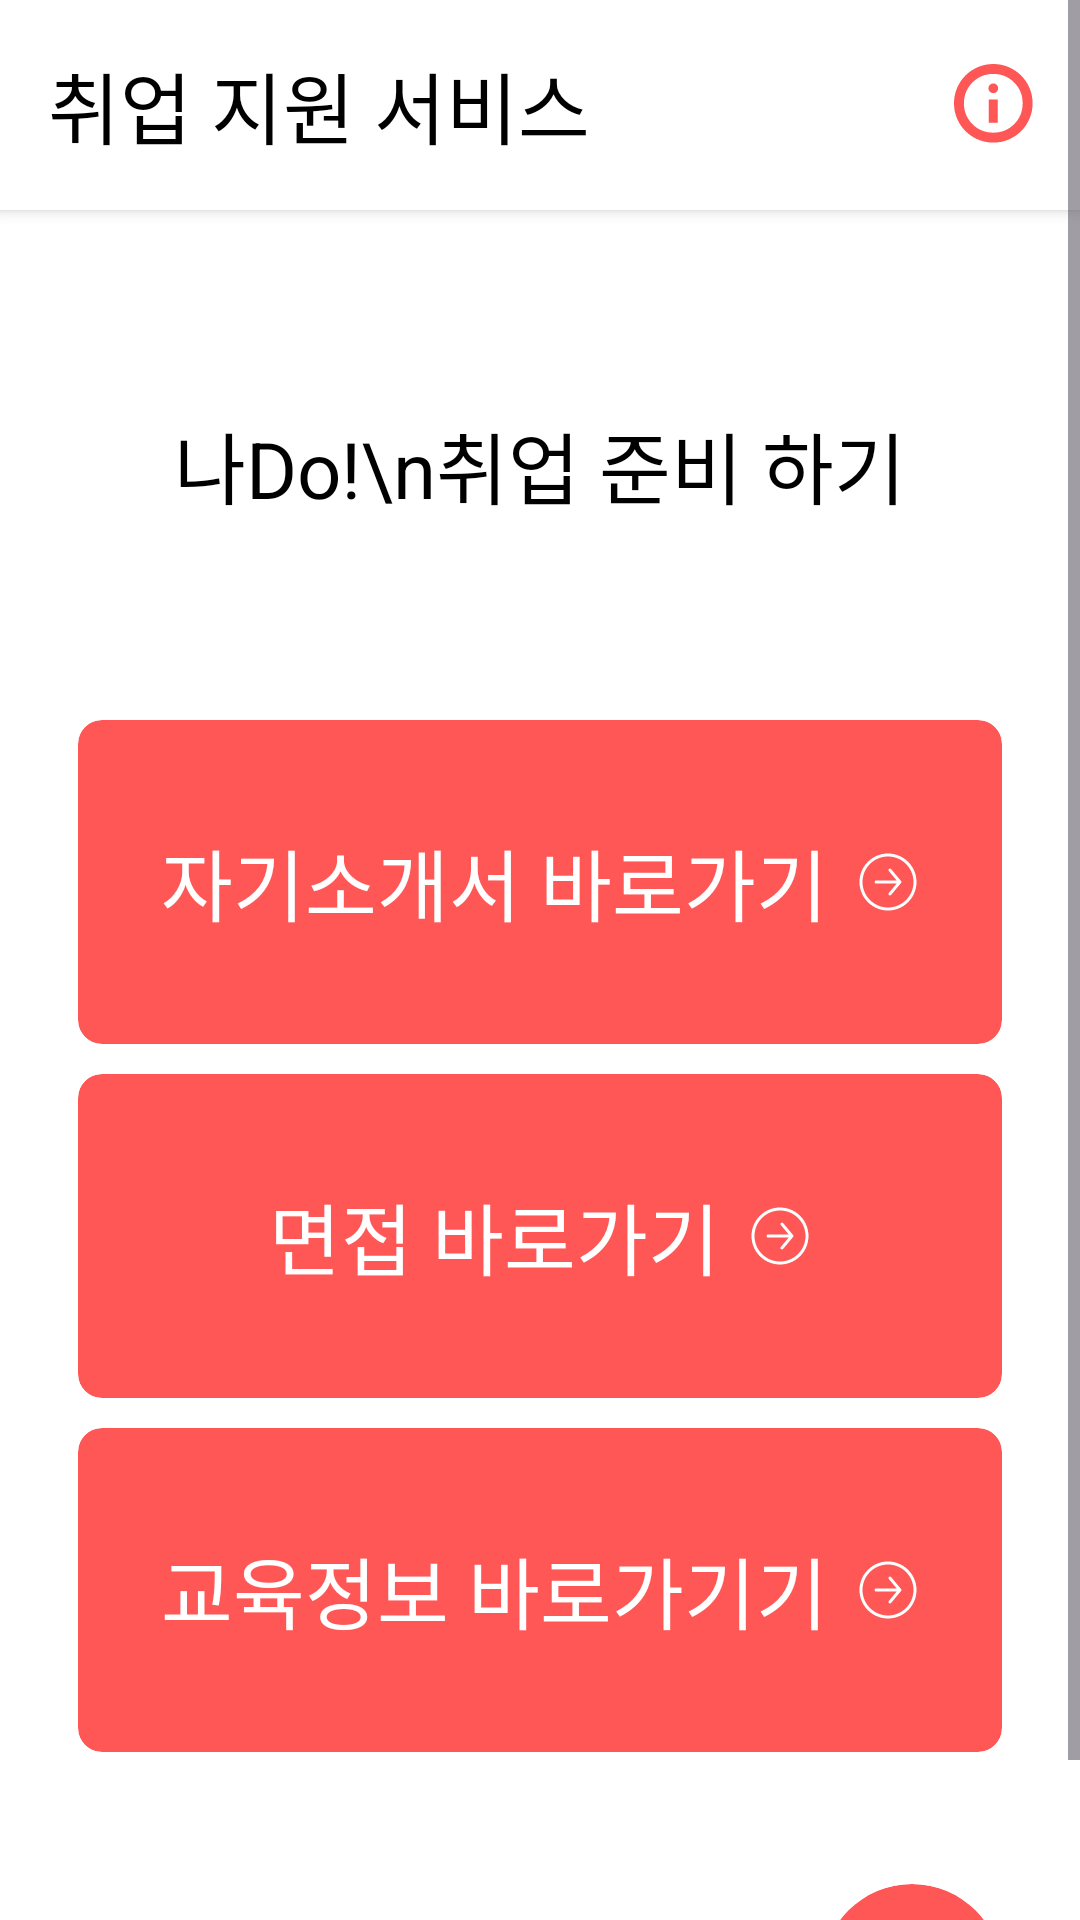

Icon bounding boxes for this 1080x1920 phone screenshot, format [x1, y1, x2, y2]:
info: [954, 64, 1033, 143]
next: [859, 853, 917, 911], [751, 1207, 809, 1265], [859, 1561, 917, 1619]
